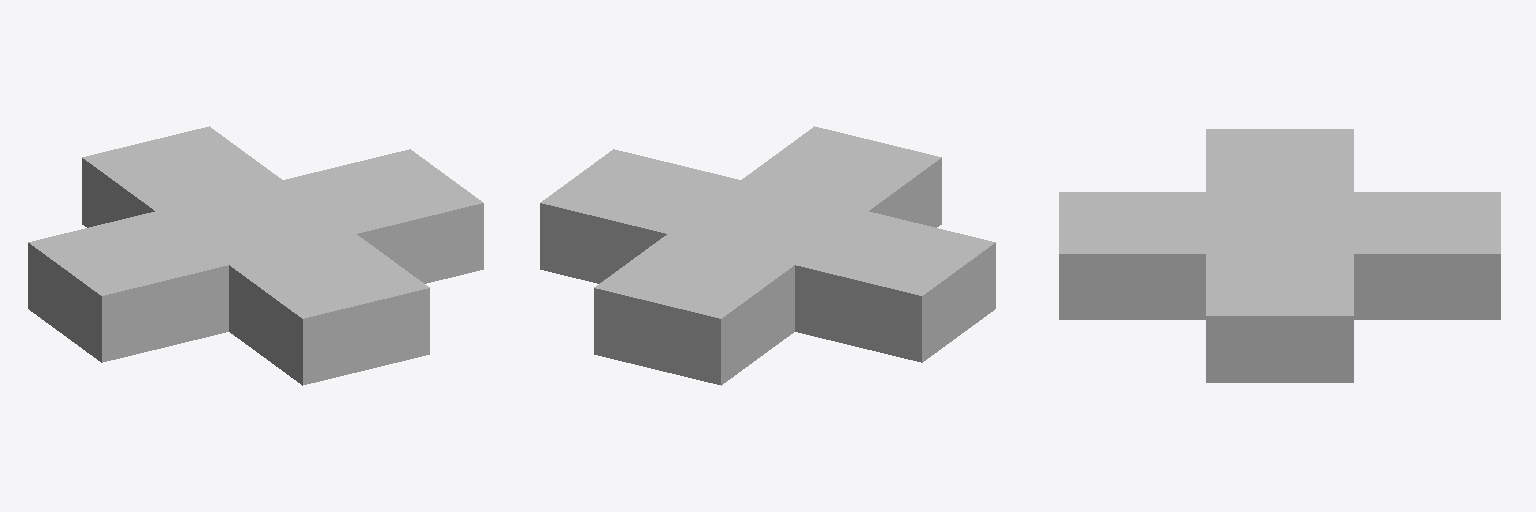
Rendered from pbrplane.obj.
3 renders of one model, left to right at view 1: azimuth 30°, elevation 25°; view 2: azimuth 150°, elevation 25°; view 3: azimuth 270°, elevation 25°, orthographic.
Parts seen in each view (by area): view 1: Plane; view 2: Plane; view 3: Plane.
Boxes of the visible parts, x1,y1,x2,y2 form: Plane: [28, 126, 483, 385]; Plane: [540, 126, 995, 385]; Plane: [1059, 129, 1500, 382].
Size of the model in its own units: 144 by 24 by 144.